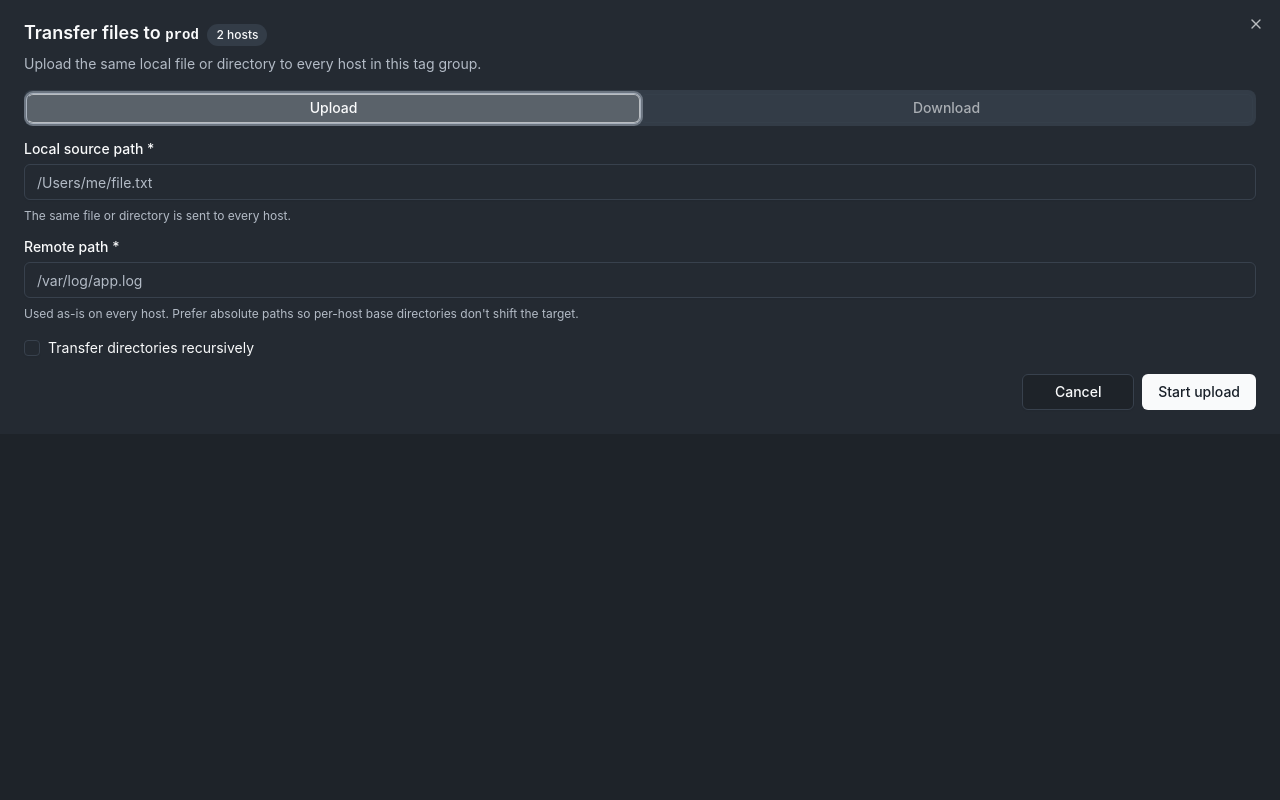
BulkScpDialog Stop › skips the rest when the copy finished just as the stop came
Type "/l" into the field with test id "bulk-scp-local-path" at (640, 182), box [24, 164, 1256, 200]
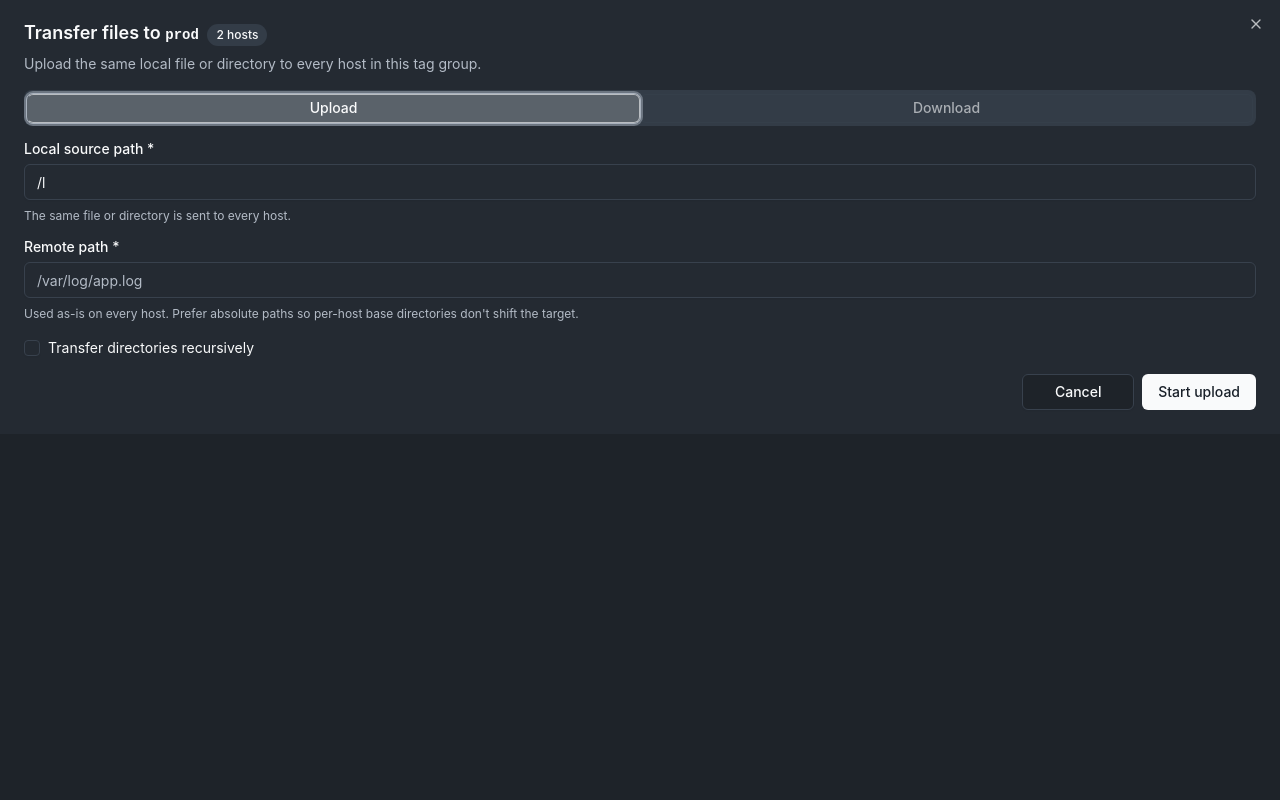
Type "/r" into the field with test id "bulk-scp-remote-path" at (640, 280), box [24, 262, 1256, 298]
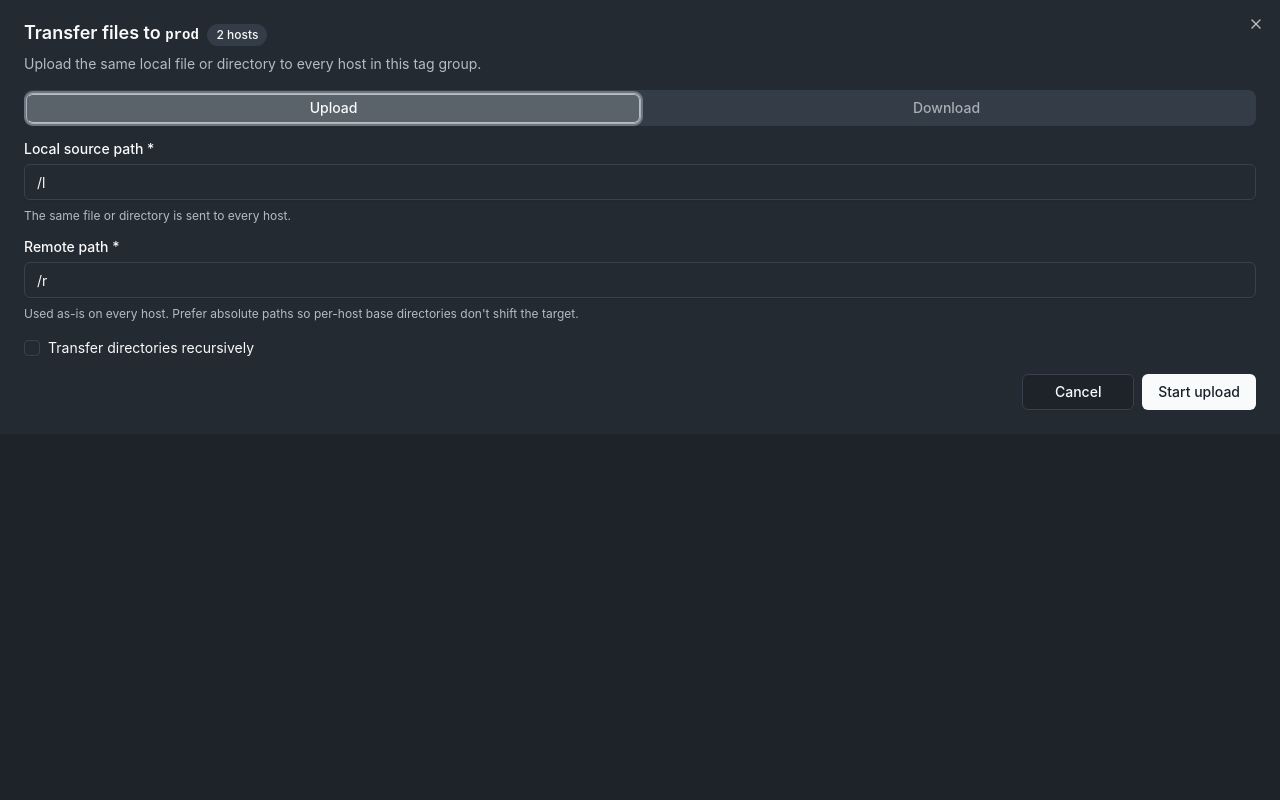
Click the button with test id "bulk-scp-start" at (1199, 392), box [1142, 374, 1256, 410]
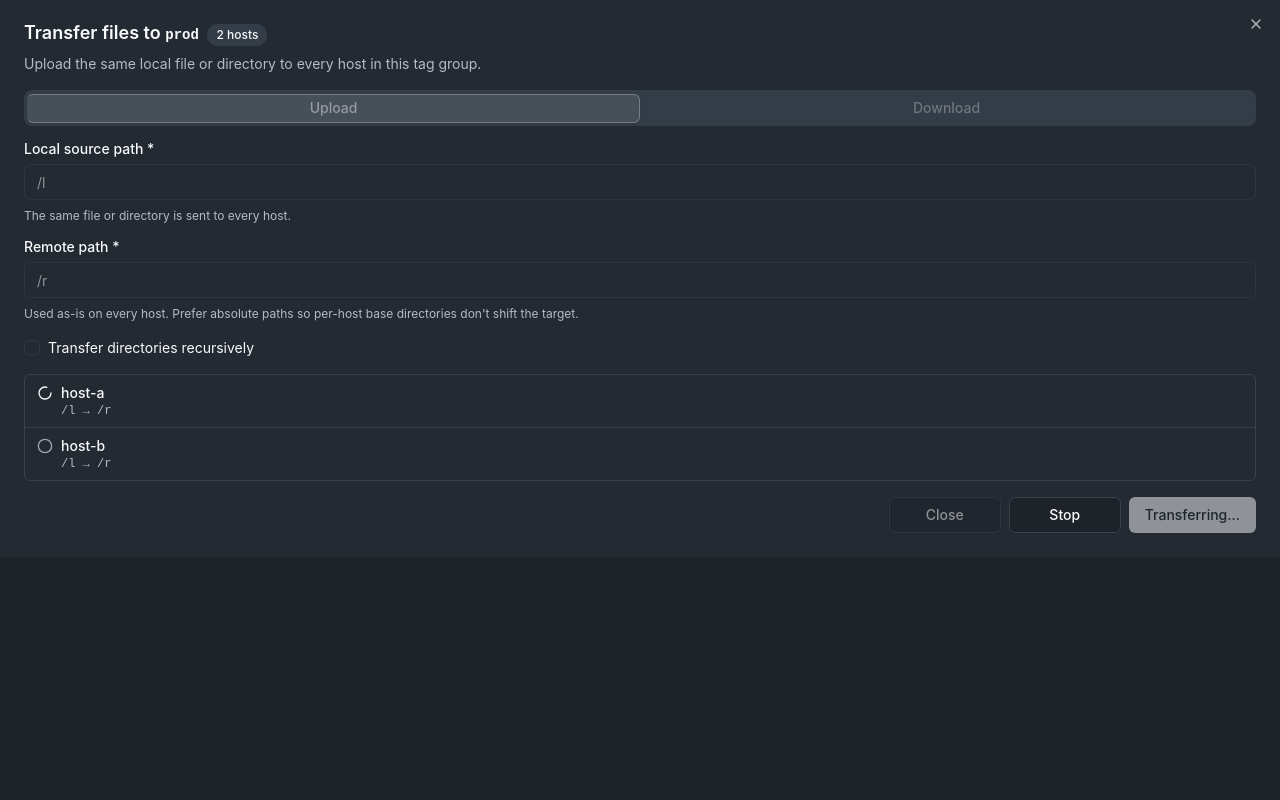
Click the button with test id "bulk-scp-stop" at (1065, 515), box [1009, 497, 1121, 533]
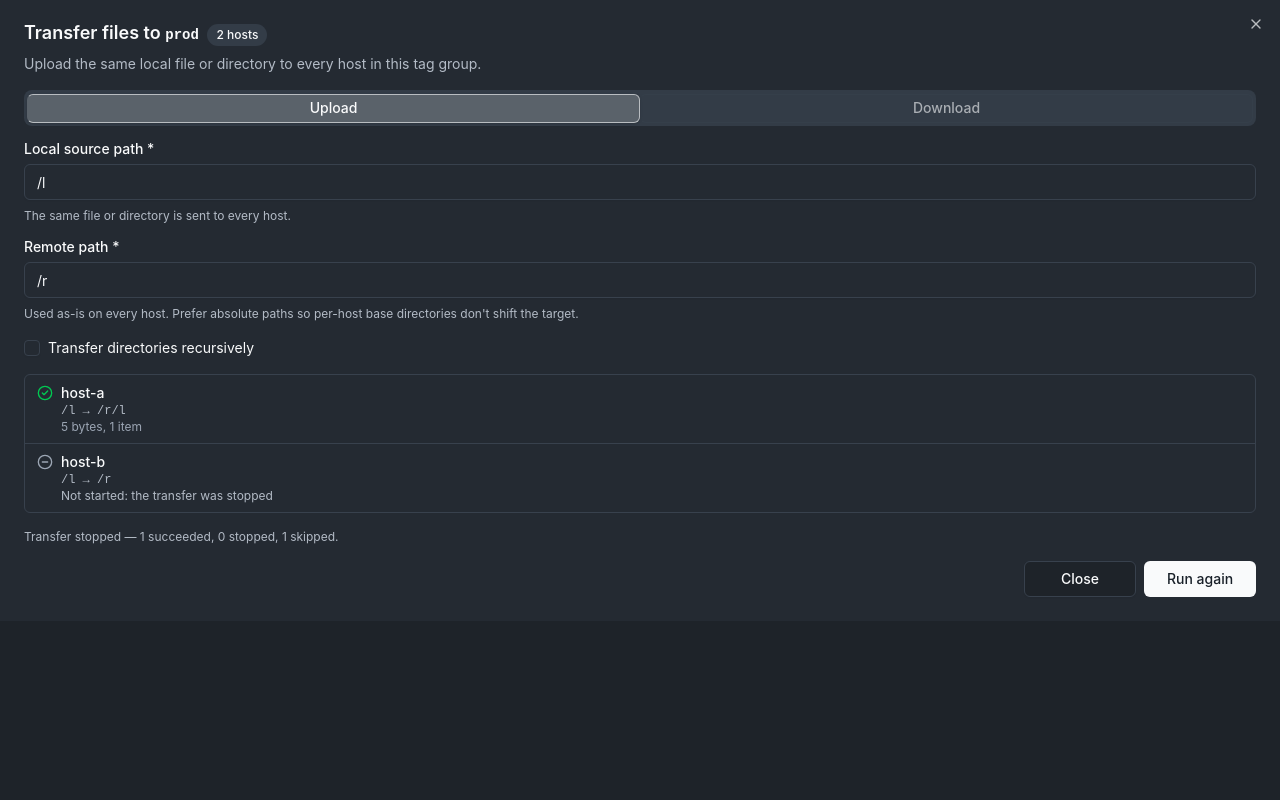
Expected: the text with test id "bulk-scp-summary" reads "Transfer stopped — 1 succeeded, 0 stopped, 1 skipped.", [24, 529, 338, 544]
